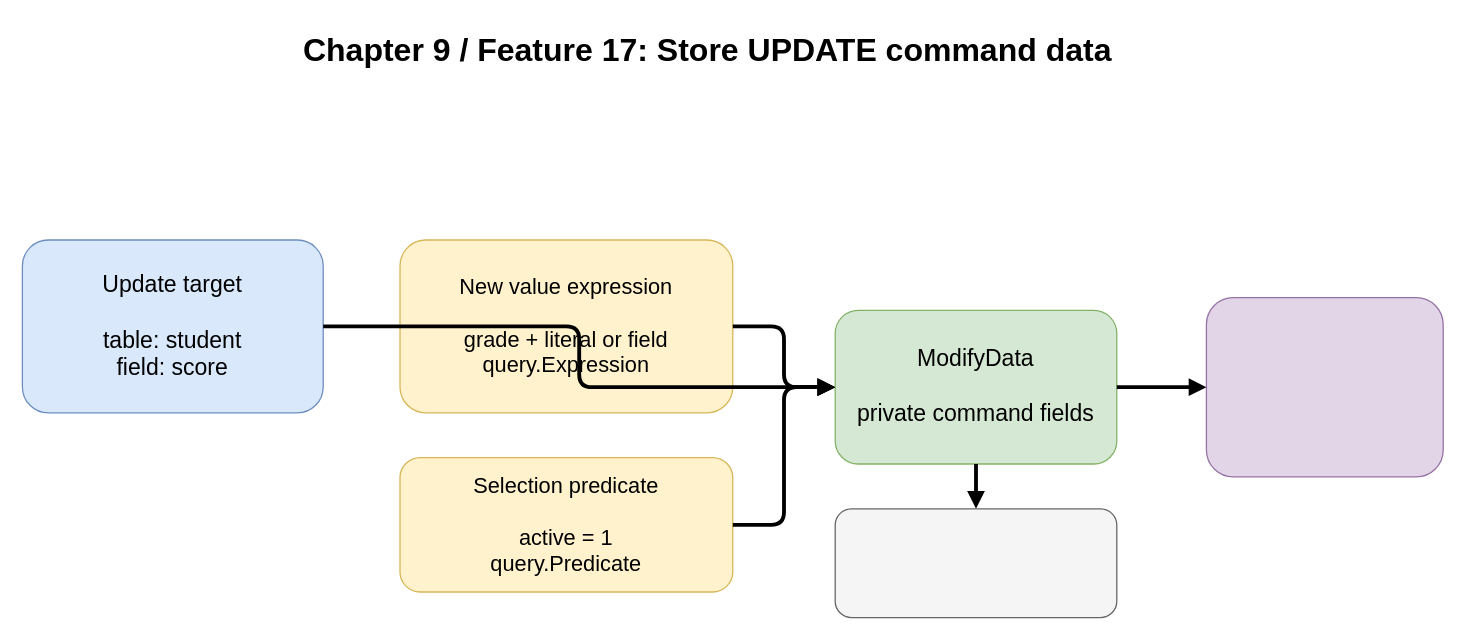
The diagram is 1466 pixels wide and 640 high, and some of its shapes have lost their labels. Here are the shapes that lost their labels. From the top down, the centre of each, then its label:
pixel 1324 386: Read-only accessors TableName() · TargetField() NewValue() · Predicate()
pixel 975 563: Zero value empty names unset expression / predicate
